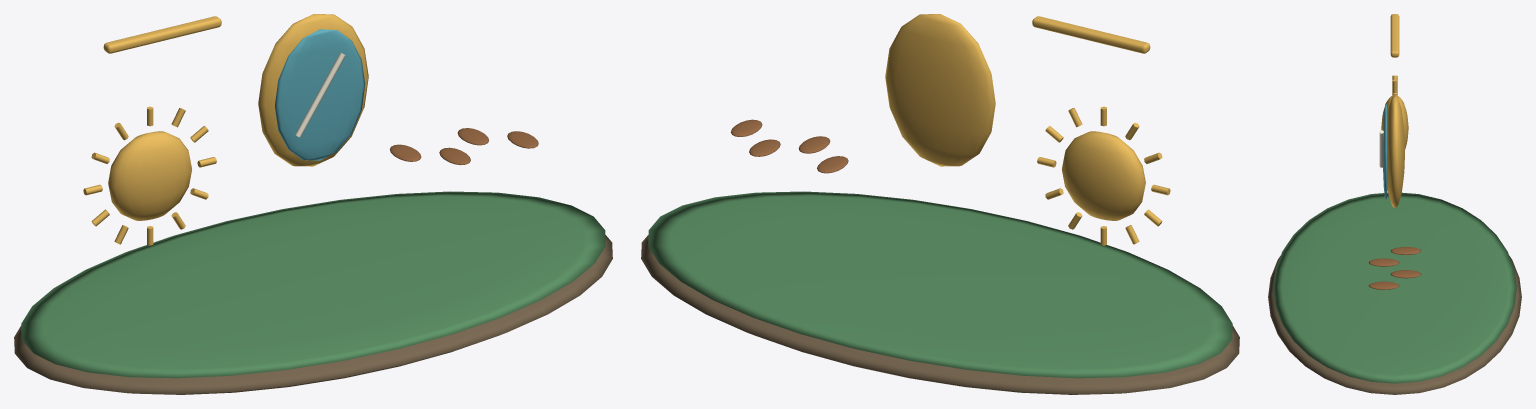
The model's file is complete-second-self-summer-return.glb.
3 views of the same model, side by side, from view 1: azimuth 30°, elevation 25°; view 2: azimuth 150°, elevation 25°; view 3: azimuth 270°, elevation 25° (orthographic). The views are drawn at different scales.
Visible parts, largest first — view 1: complete-second-self-summer-return_surface_01, complete-second-self-summer-return_surface_02, complete-second-self-summer-return_surface_00, complete-second-self-summer-return_surface_03, complete-second-self-summer-return_surface_05, complete-second-self-summer-return_surface_04; view 2: complete-second-self-summer-return_surface_01, complete-second-self-summer-return_surface_02, complete-second-self-summer-return_surface_00, complete-second-self-summer-return_surface_05; view 3: complete-second-self-summer-return_surface_01, complete-second-self-summer-return_surface_00, complete-second-self-summer-return_surface_02, complete-second-self-summer-return_surface_05, complete-second-self-summer-return_surface_03.
Boxes of the visible parts, left/top/right/bottom form: complete-second-self-summer-return_surface_01: left=21, top=191, right=605, bottom=378; complete-second-self-summer-return_surface_02: left=83, top=14, right=368, bottom=245; complete-second-self-summer-return_surface_00: left=14, top=235, right=612, bottom=394; complete-second-self-summer-return_surface_03: left=275, top=29, right=365, bottom=160; complete-second-self-summer-return_surface_05: left=390, top=128, right=538, bottom=165; complete-second-self-summer-return_surface_04: left=295, top=52, right=345, bottom=137; complete-second-self-summer-return_surface_01: left=648, top=191, right=1232, bottom=378; complete-second-self-summer-return_surface_02: left=885, top=14, right=1170, bottom=245; complete-second-self-summer-return_surface_00: left=641, top=235, right=1239, bottom=394; complete-second-self-summer-return_surface_05: left=731, top=119, right=848, bottom=173; complete-second-self-summer-return_surface_01: left=1273, top=192, right=1516, bottom=383; complete-second-self-summer-return_surface_00: left=1268, top=256, right=1521, bottom=394; complete-second-self-summer-return_surface_02: left=1381, top=14, right=1408, bottom=207; complete-second-self-summer-return_surface_05: left=1368, top=247, right=1421, bottom=289; complete-second-self-summer-return_surface_03: left=1382, top=103, right=1387, bottom=199.
Size of the model in its own units: 4.56 by 2.44 by 2.5.
